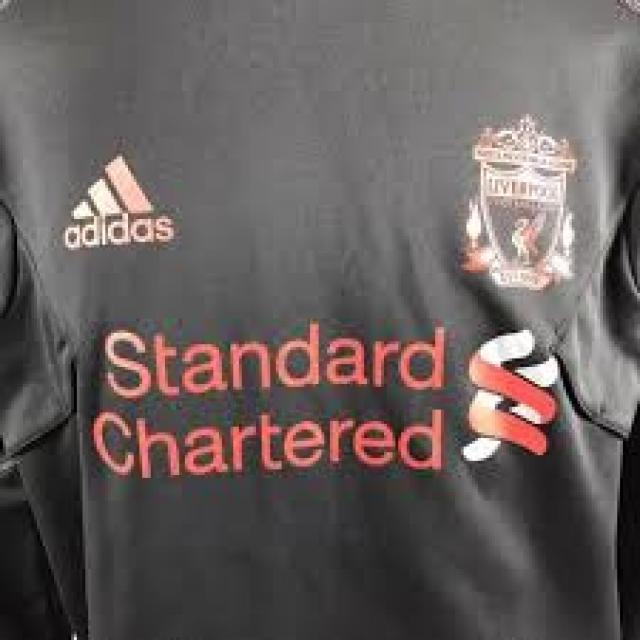Adidas: (62, 154, 176, 248)
Standard Chartered: (86, 329, 562, 474)
